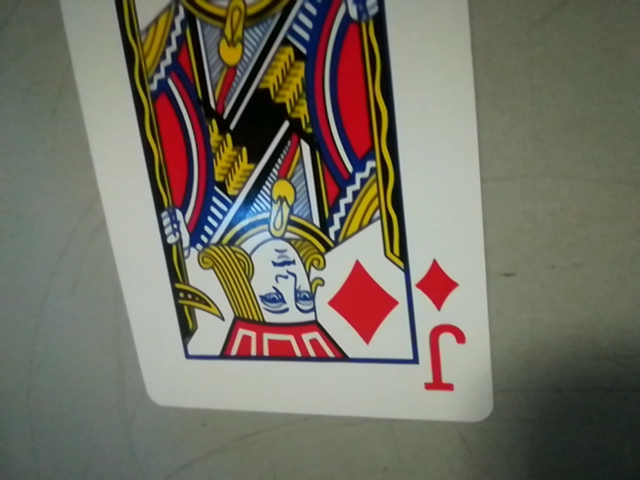fk j: (406, 250, 481, 405)
